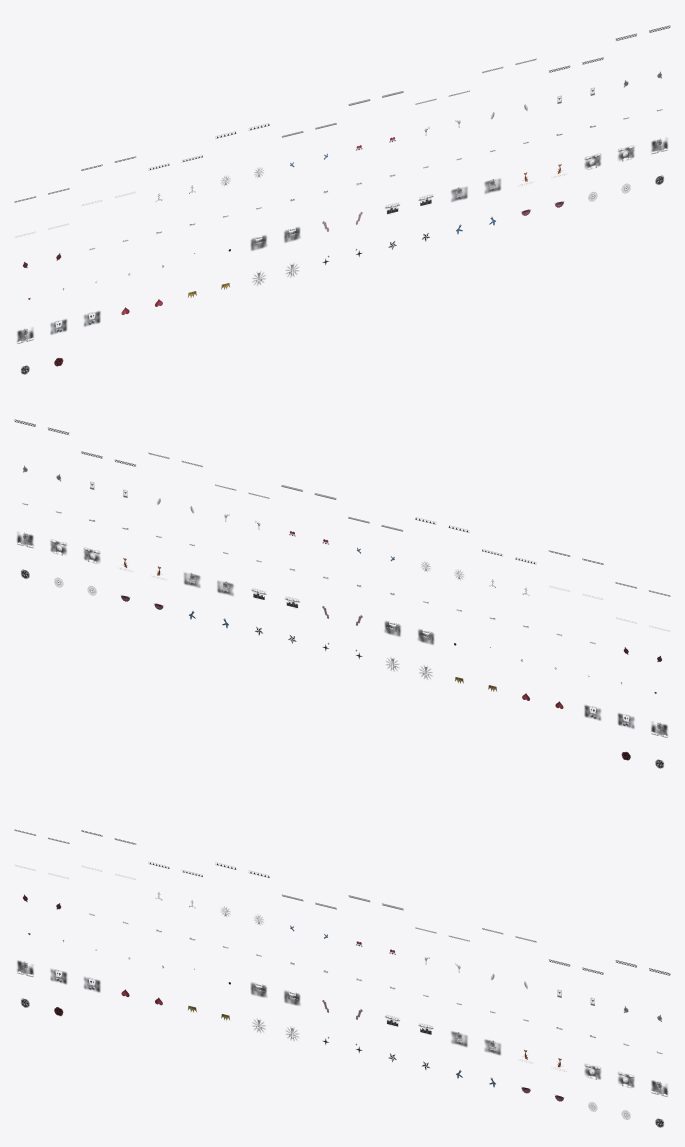
File: NCInkSwatches_1.glb
3 views of the same model, one above another, from view 1: azimuth 30°, elevation 25°; view 2: azimuth 150°, elevation 25°; view 3: azimuth 330°, elevation 25° (orthographic).
Size of the model in its own units: 43.3 by 13 by 0.
Materials: 102 (102 with a texture image).
